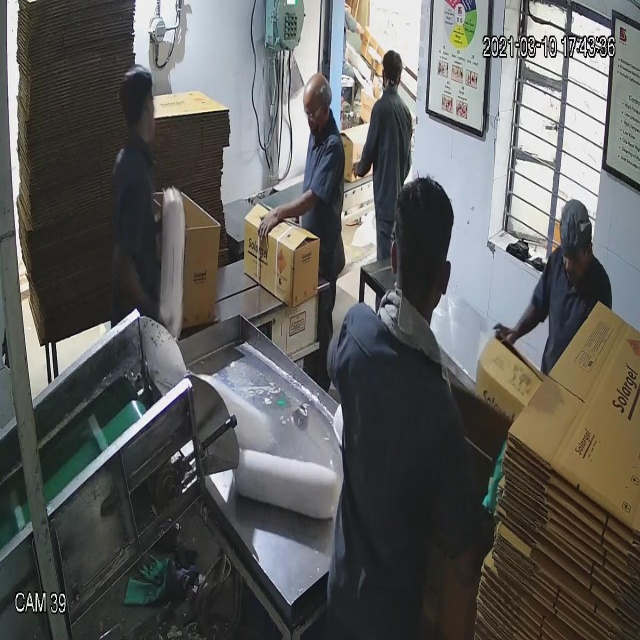Sin_guantes: (246, 178, 325, 249), (494, 278, 546, 367)
